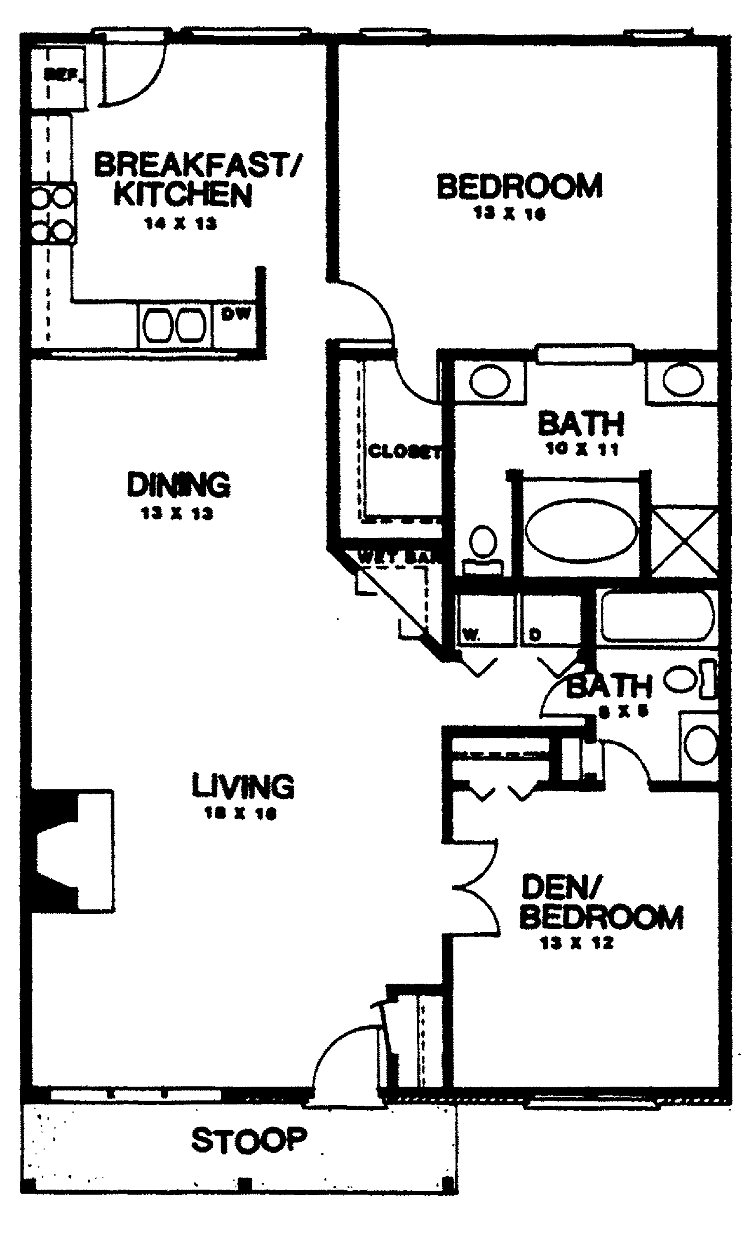wall: (721, 574, 736, 1118), (16, 348, 33, 787), (446, 572, 734, 597), (716, 37, 734, 359), (21, 31, 36, 369), (444, 350, 457, 655), (438, 931, 461, 1091), (327, 42, 342, 280), (719, 350, 733, 584), (19, 791, 29, 1101), (429, 29, 625, 44), (444, 727, 602, 742), (329, 338, 338, 553), (504, 469, 521, 572), (374, 1089, 519, 1101), (640, 472, 655, 584), (442, 729, 455, 853), (217, 1089, 308, 1103), (382, 980, 455, 997), (657, 1084, 725, 1101), (653, 780, 725, 795), (257, 265, 268, 363), (531, 778, 604, 791), (16, 1086, 46, 1103)
